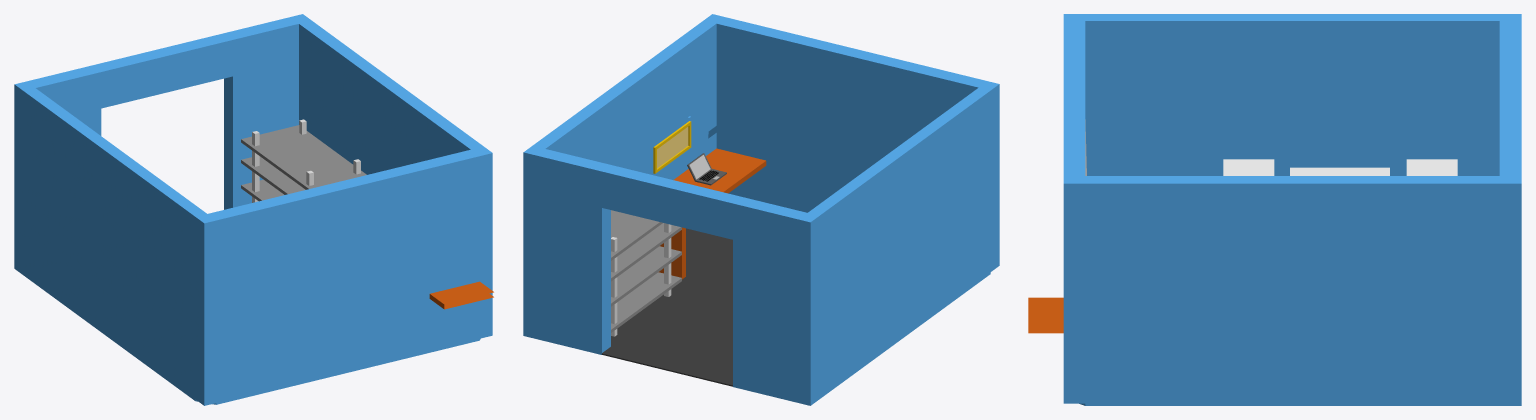
The model's file is Garage menu kesz.fbx.
3 renders of one model, left to right at view 1: azimuth 30°, elevation 25°; view 2: azimuth 150°, elevation 25°; view 3: azimuth 270°, elevation 25°, orthographic. The views are drawn at different scales.
Visible parts, largest first — view 1: Wall, Cube.005, Table, Cube.004, Cube.003; view 2: Wall, Floor, Table, Cube, Cube.003, Cube.005, Cube.004, Cube.002, Cube.001, Lab4; view 3: Wall, Table, Base.003, Base.001, Base.002.
Boxes of the visible parts, box(x1,y1,x2,y2) form: Wall: box(14, 14, 492, 405); Cube.005: box(241, 125, 366, 189); Table: box(429, 281, 493, 309); Cube.004: box(241, 156, 305, 194); Cube.003: box(241, 179, 283, 201); Wall: box(523, 14, 999, 405); Floor: box(602, 228, 732, 386); Table: box(658, 148, 766, 279); Cube: box(611, 272, 681, 332); Cube.003: box(611, 246, 681, 306); Cube.005: box(611, 210, 662, 260); Cube.004: box(611, 223, 681, 281); Cube.002: box(657, 127, 688, 168); Cube.001: box(653, 121, 691, 173); Lab4: box(611, 237, 617, 336); Wall: box(1063, 14, 1521, 405); Table: box(1028, 297, 1063, 333); Base.003: box(1290, 167, 1389, 175); Base.001: box(1223, 159, 1274, 175); Base.002: box(1406, 159, 1457, 175).
Bounding box in the file's own units: 4600 × 2811 × 5652.
